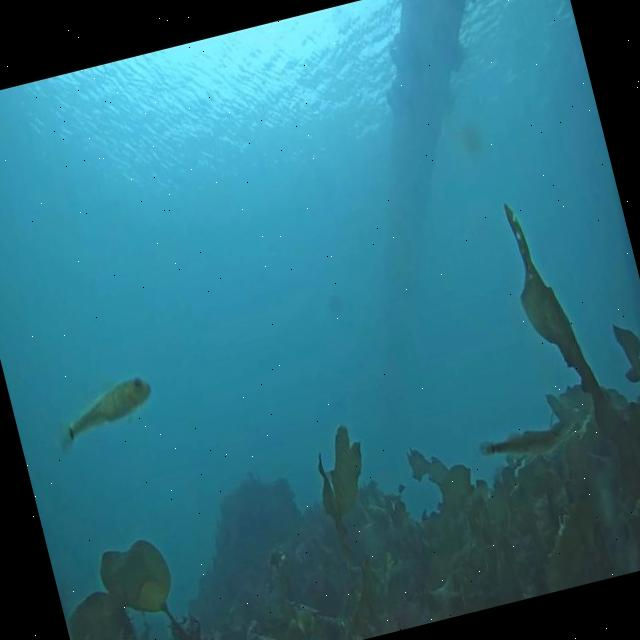fish: (46, 372, 160, 456), (474, 409, 571, 466), (322, 288, 350, 318)
